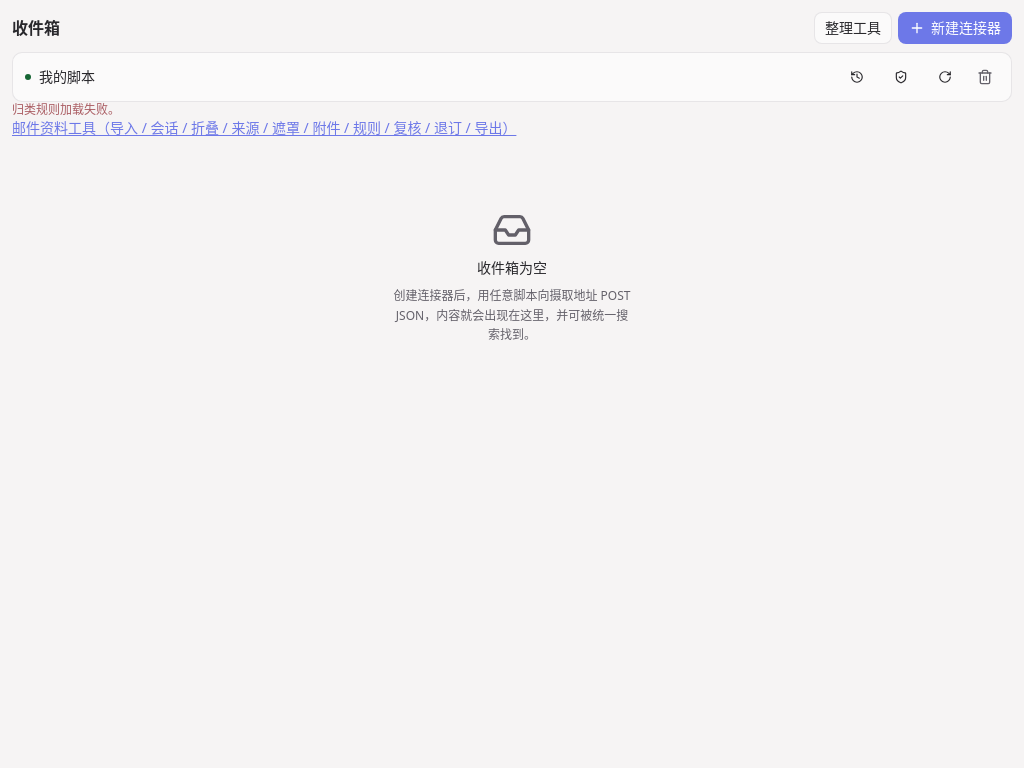
it: F107 投递记录与失败重放 › F107: 重放被拒（409 not_replayable）诚实透出
This screenshot has width=1024, height=768.
What coordinates should you click on to do the following:
click the button named "投递记录 我的脚本"
I would click on:
 (857, 77)
Its box is [839,61,875,93].
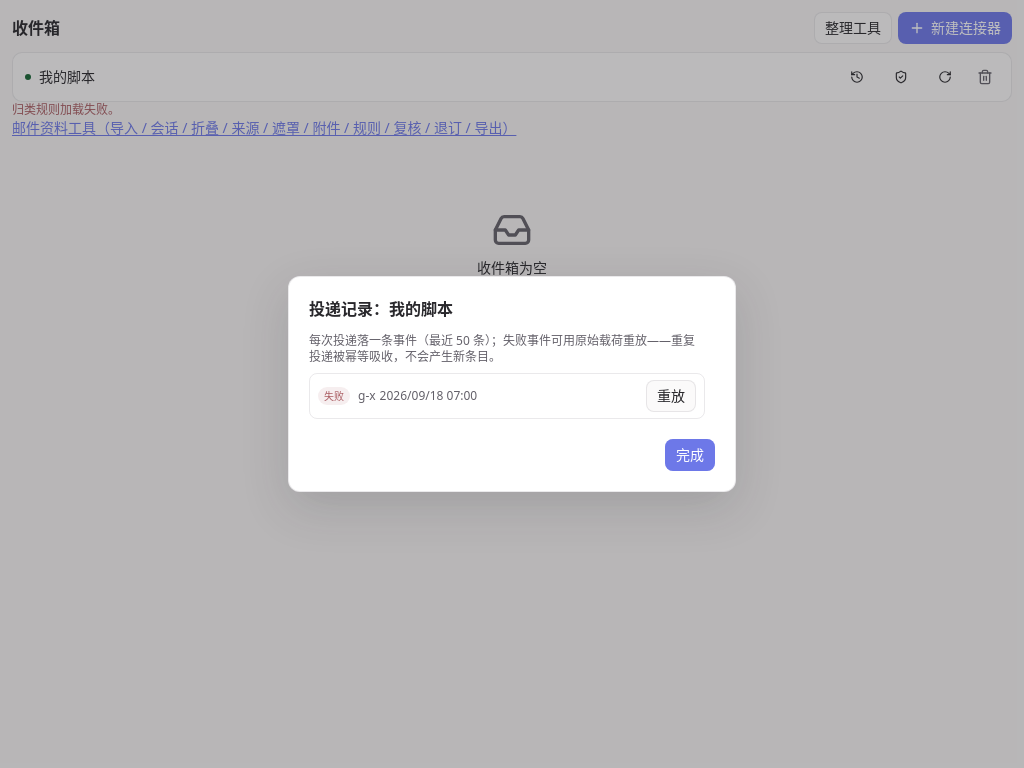
What coordinates should you click on to do the following:
click the button with aria-label "重放 5"
I would click on:
 (671, 396)
Its box is [646,380,696,412].
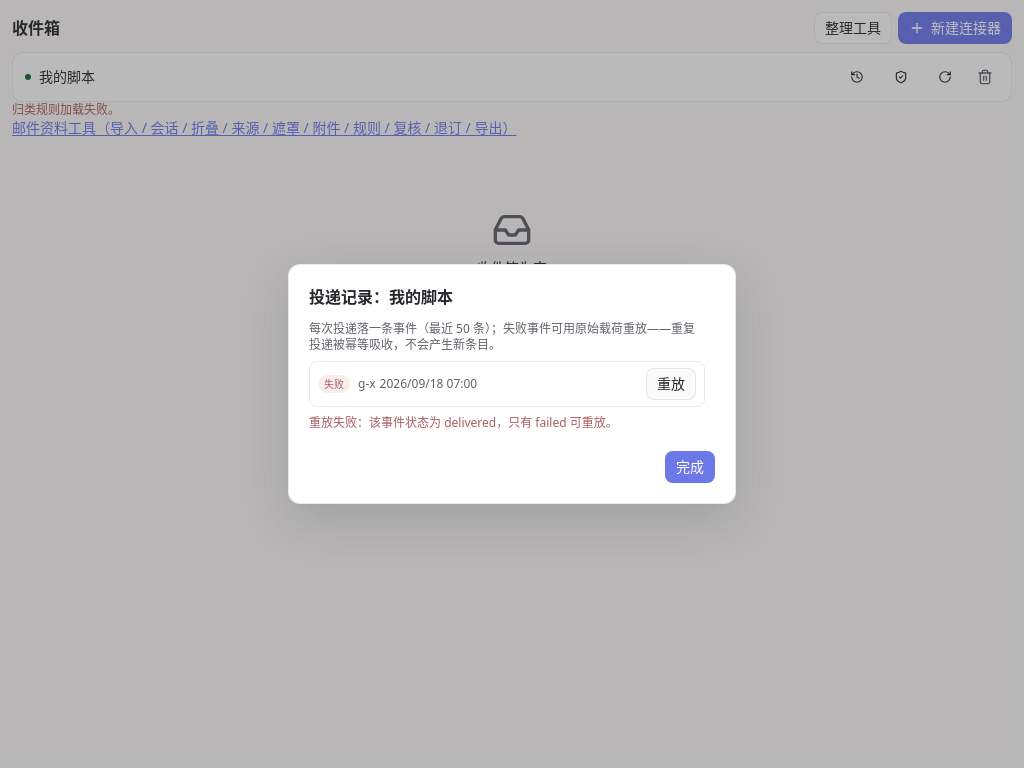
Expected: the message "重放失败：该事件状态为 delivered，只有 failed 可重放。" is shown, [309,414,618,431]
